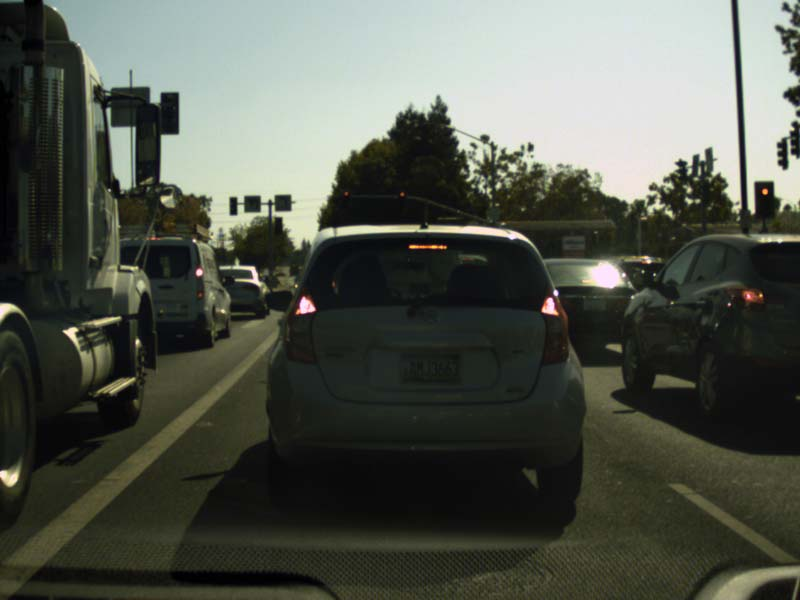Red: (755, 181, 773, 218), (397, 189, 406, 211), (342, 188, 349, 207)
